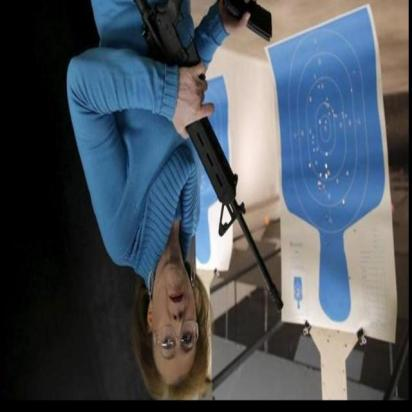Gun: (133, 0, 284, 314)
